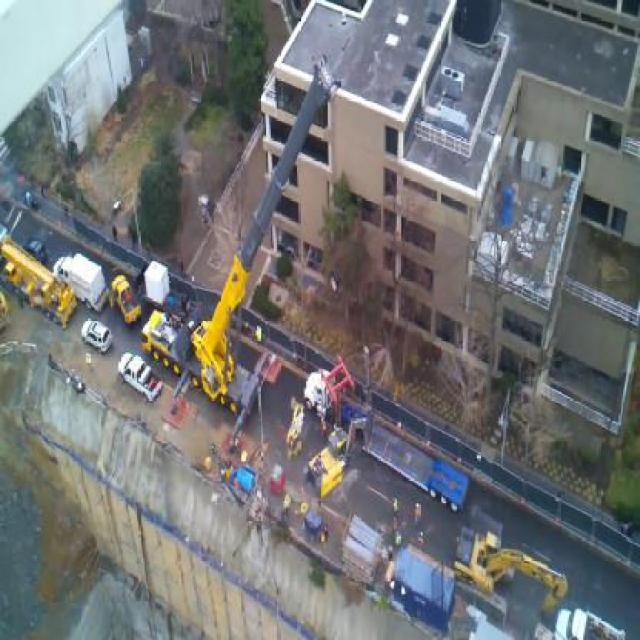Excavator: (453, 518, 567, 627)
Mobile Crane: (140, 57, 335, 401), (0, 233, 75, 327)
